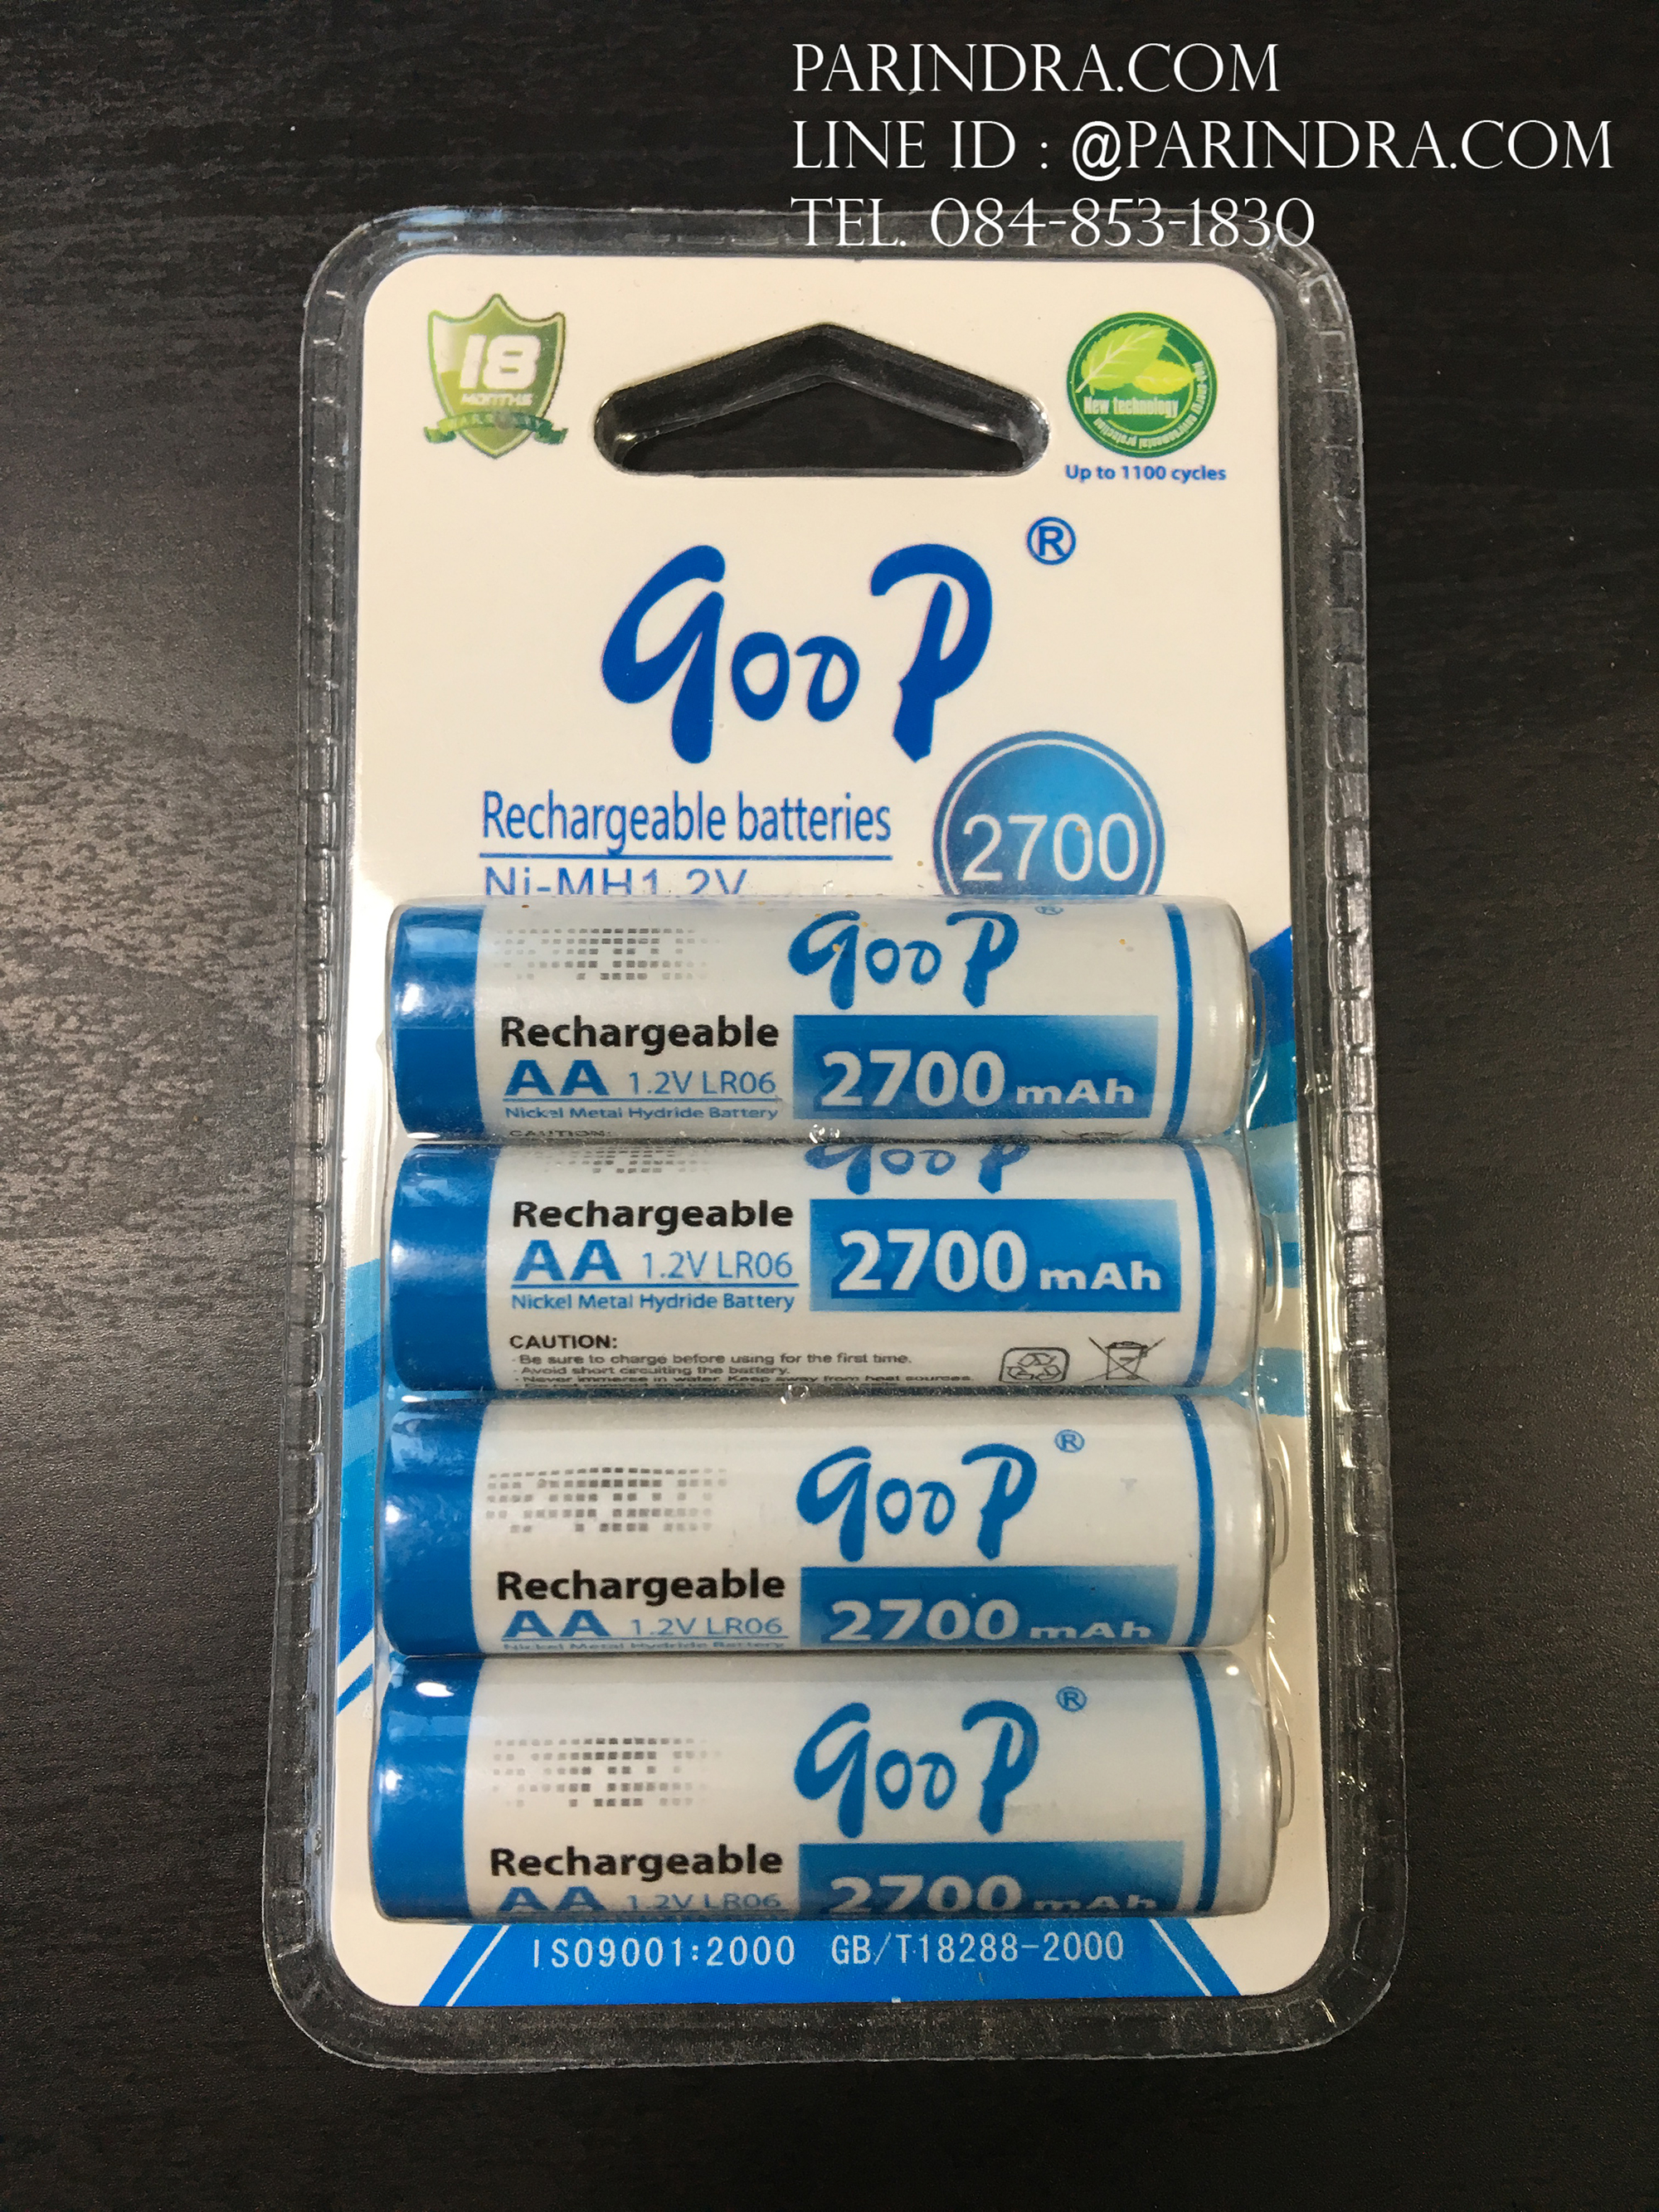Battery: (371, 1660, 1281, 1918), (380, 1402, 1262, 1653), (387, 1146, 1263, 1390), (387, 900, 1256, 1144)
